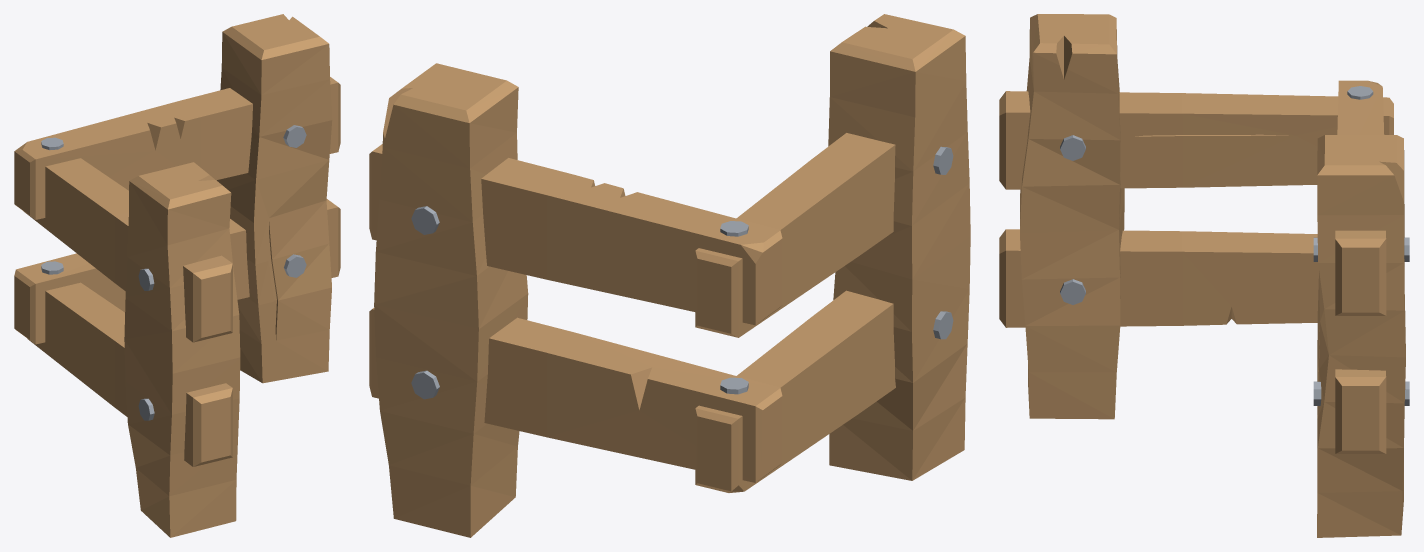
The model's file is Fence 2.fbx.
The picture shows the model from 3 angles, left to right: view 1: azimuth 30°, elevation 25°; view 2: azimuth 150°, elevation 25°; view 3: azimuth 270°, elevation 25°; orthographic projection. The views are drawn at different scales.
Visible parts, largest first — view 1: Fence 2; view 2: Fence 2; view 3: Fence 2.
Boxes of the visible parts, left/top/right/bottom form: Fence 2: left=14, top=14, right=340, bottom=537; Fence 2: left=369, top=14, right=970, bottom=537; Fence 2: left=999, top=14, right=1409, bottom=537.
Size of the model in its own units: 2.85 by 2.87 by 2.88.
